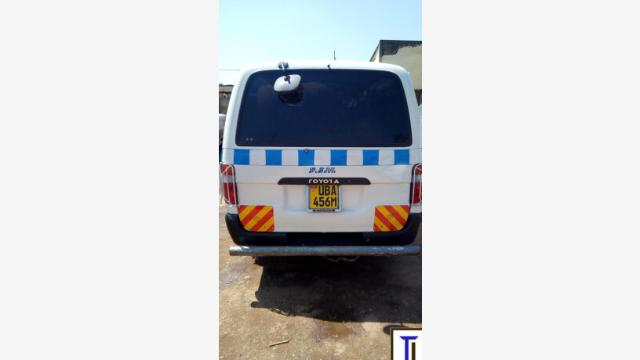van: (220, 58, 422, 257)
